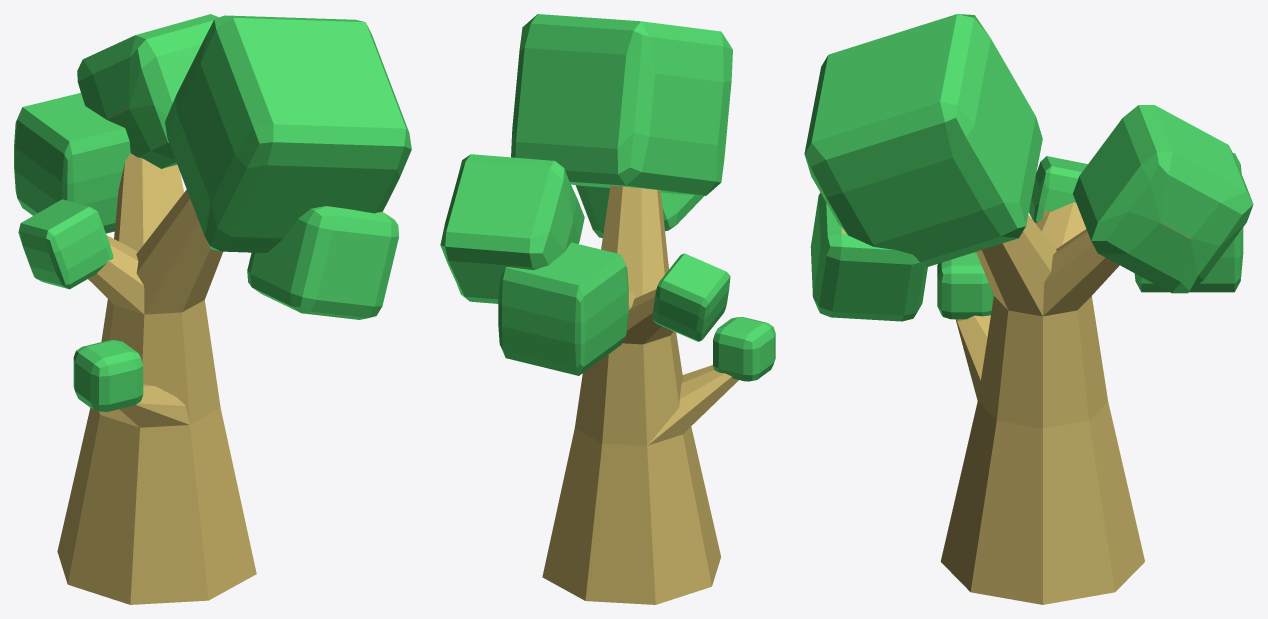
File: Tree_3.fbx
The picture shows the model from 3 angles, left to right: view 1: azimuth 30°, elevation 25°; view 2: azimuth 150°, elevation 25°; view 3: azimuth 270°, elevation 25°; orthographic projection. The views are drawn at different scales.
Parts seen in each view (by area): view 1: Cylinder; view 2: Cylinder; view 3: Cylinder.
Part boxes in pixels (x1=…): Cylinder: x1=14, y1=14, x2=411, y2=604; Cylinder: x1=440, y1=14, x2=775, y2=604; Cylinder: x1=804, y1=14, x2=1253, y2=604.
Bounding box in the file's own units: 74.55 × 146 × 105.
